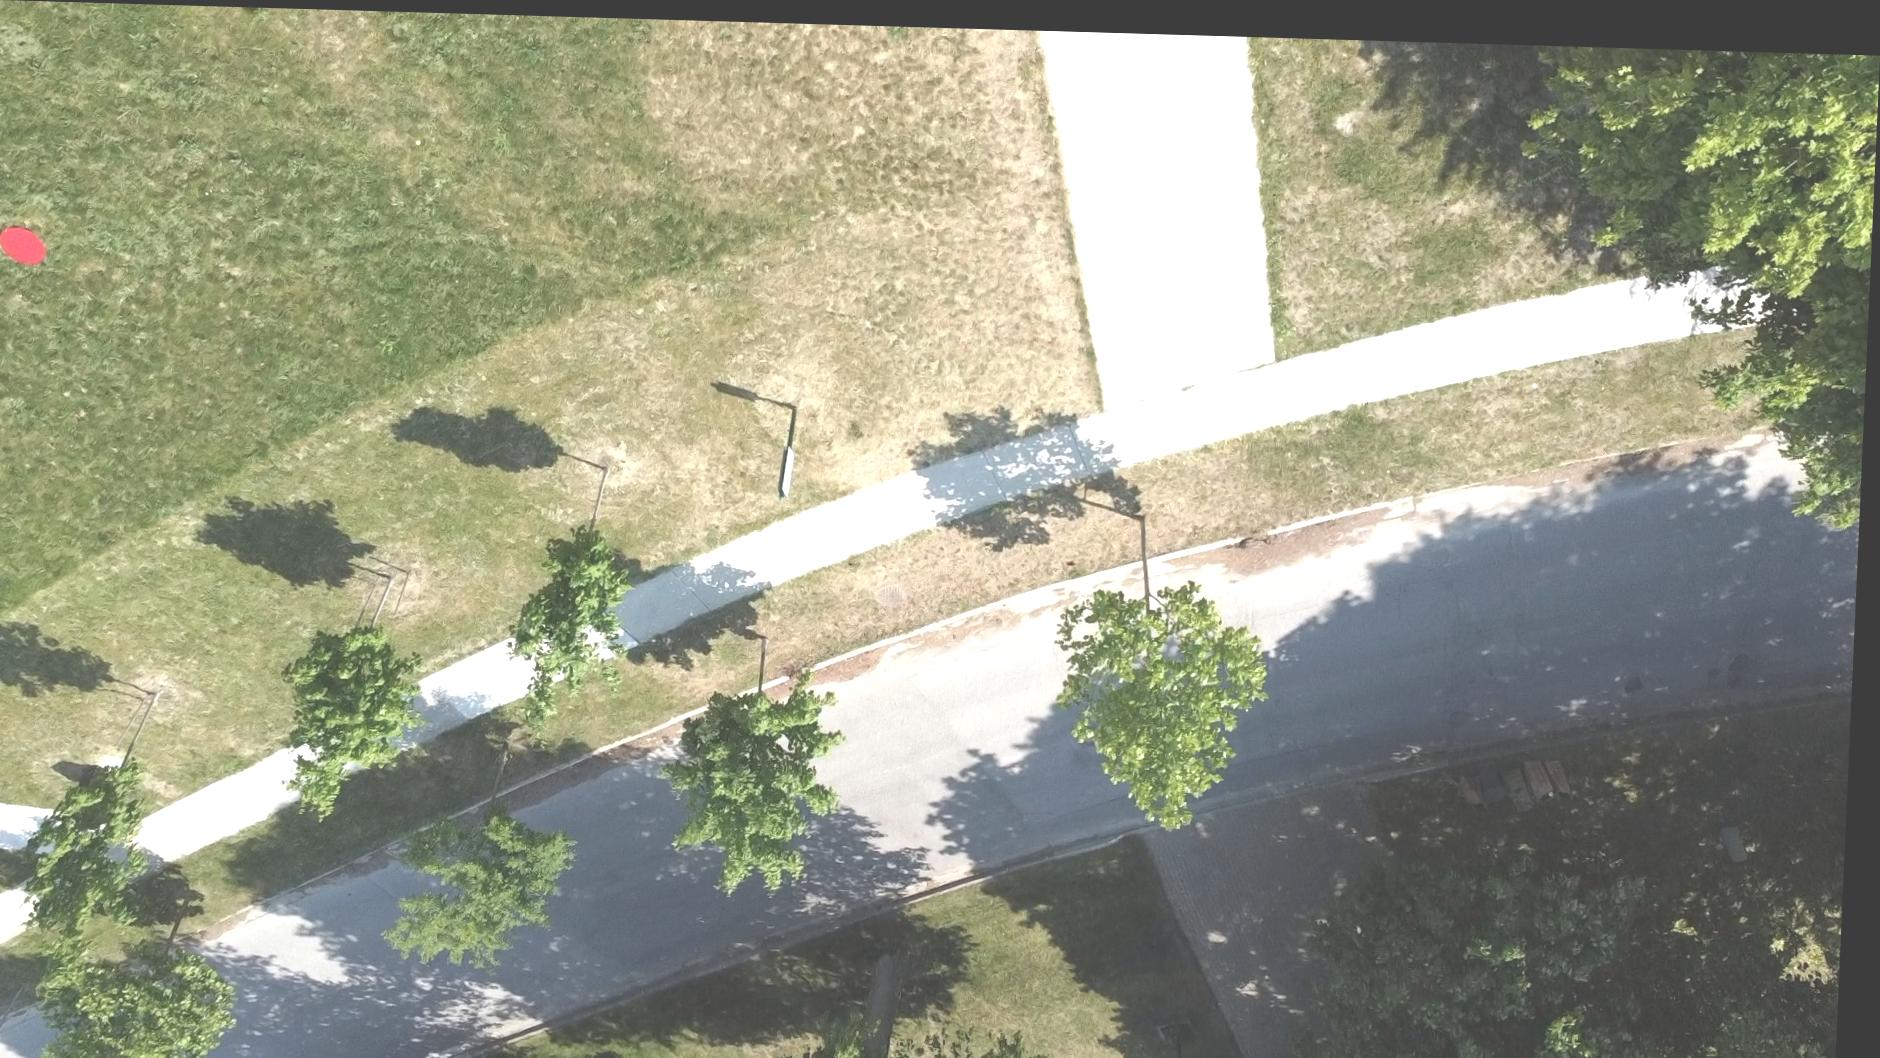Red: (0, 225, 53, 266)
